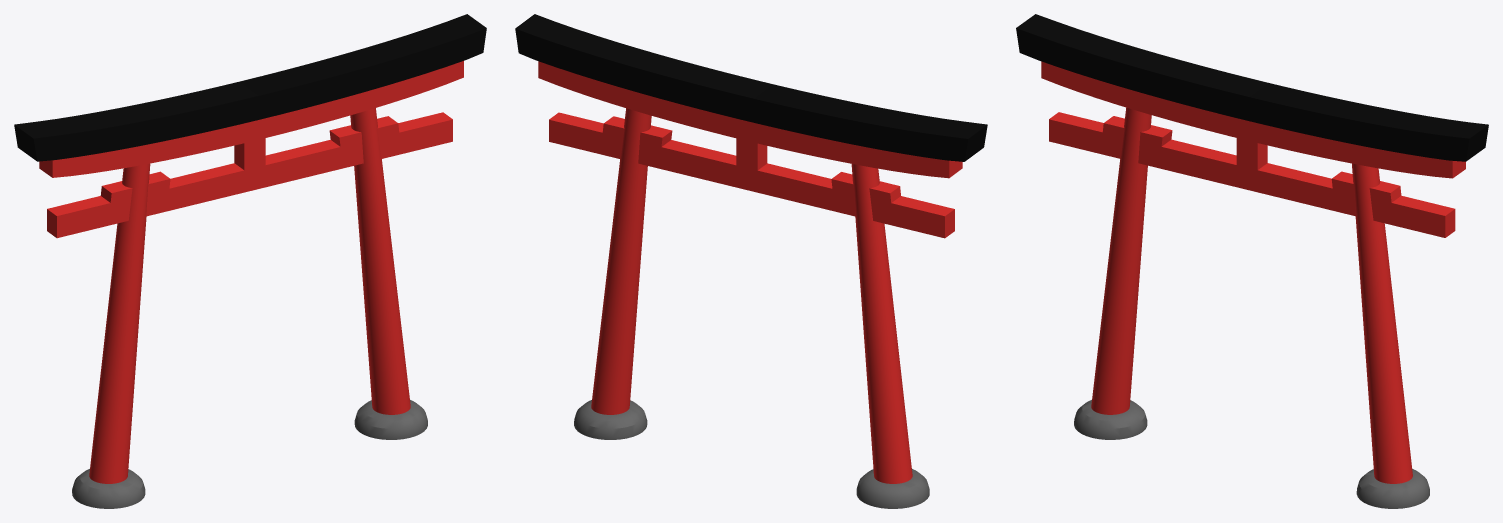
Rendered from JapaneseArch.fbx.
The picture shows the model from 3 angles, left to right: view 1: azimuth 30°, elevation 25°; view 2: azimuth 150°, elevation 25°; view 3: azimuth 330°, elevation 25°; orthographic projection.
Parts seen in each view (by area): view 1: Arch; view 2: Arch; view 3: Arch.
Part boxes in pixels (x1,y1,x2,y2): Arch: (14, 14, 486, 508); Arch: (515, 14, 987, 508); Arch: (1016, 14, 1488, 508).
Bounding box in the file's own units: 771 × 622 × 108.
